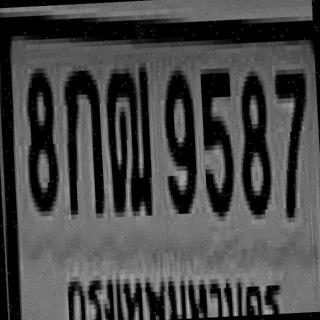A01: (61, 65, 103, 210)
A18: (103, 63, 154, 213)
N05: (198, 63, 235, 213)
N07: (272, 64, 310, 214)
N08: (22, 63, 58, 208), (236, 66, 271, 210)
N09: (160, 65, 197, 210)
